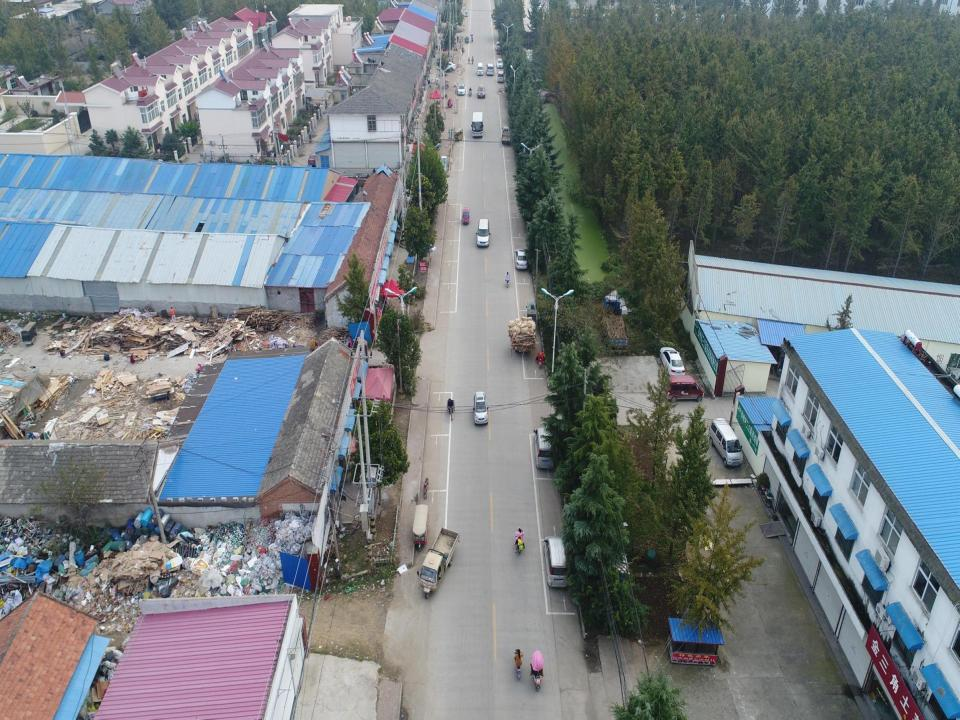bus: (470, 111, 484, 139)
car: (658, 346, 687, 379), (472, 389, 489, 427), (475, 217, 493, 248), (513, 247, 530, 271), (308, 149, 318, 168), (439, 62, 456, 72), (456, 82, 466, 98), (476, 84, 486, 99), (486, 61, 494, 75), (496, 58, 504, 70), (494, 41, 501, 51)
truck: (600, 294, 631, 352), (501, 125, 512, 146)
van: (708, 416, 745, 470), (543, 534, 570, 588), (664, 373, 706, 405), (530, 424, 555, 472), (497, 69, 505, 85), (477, 62, 485, 77)
